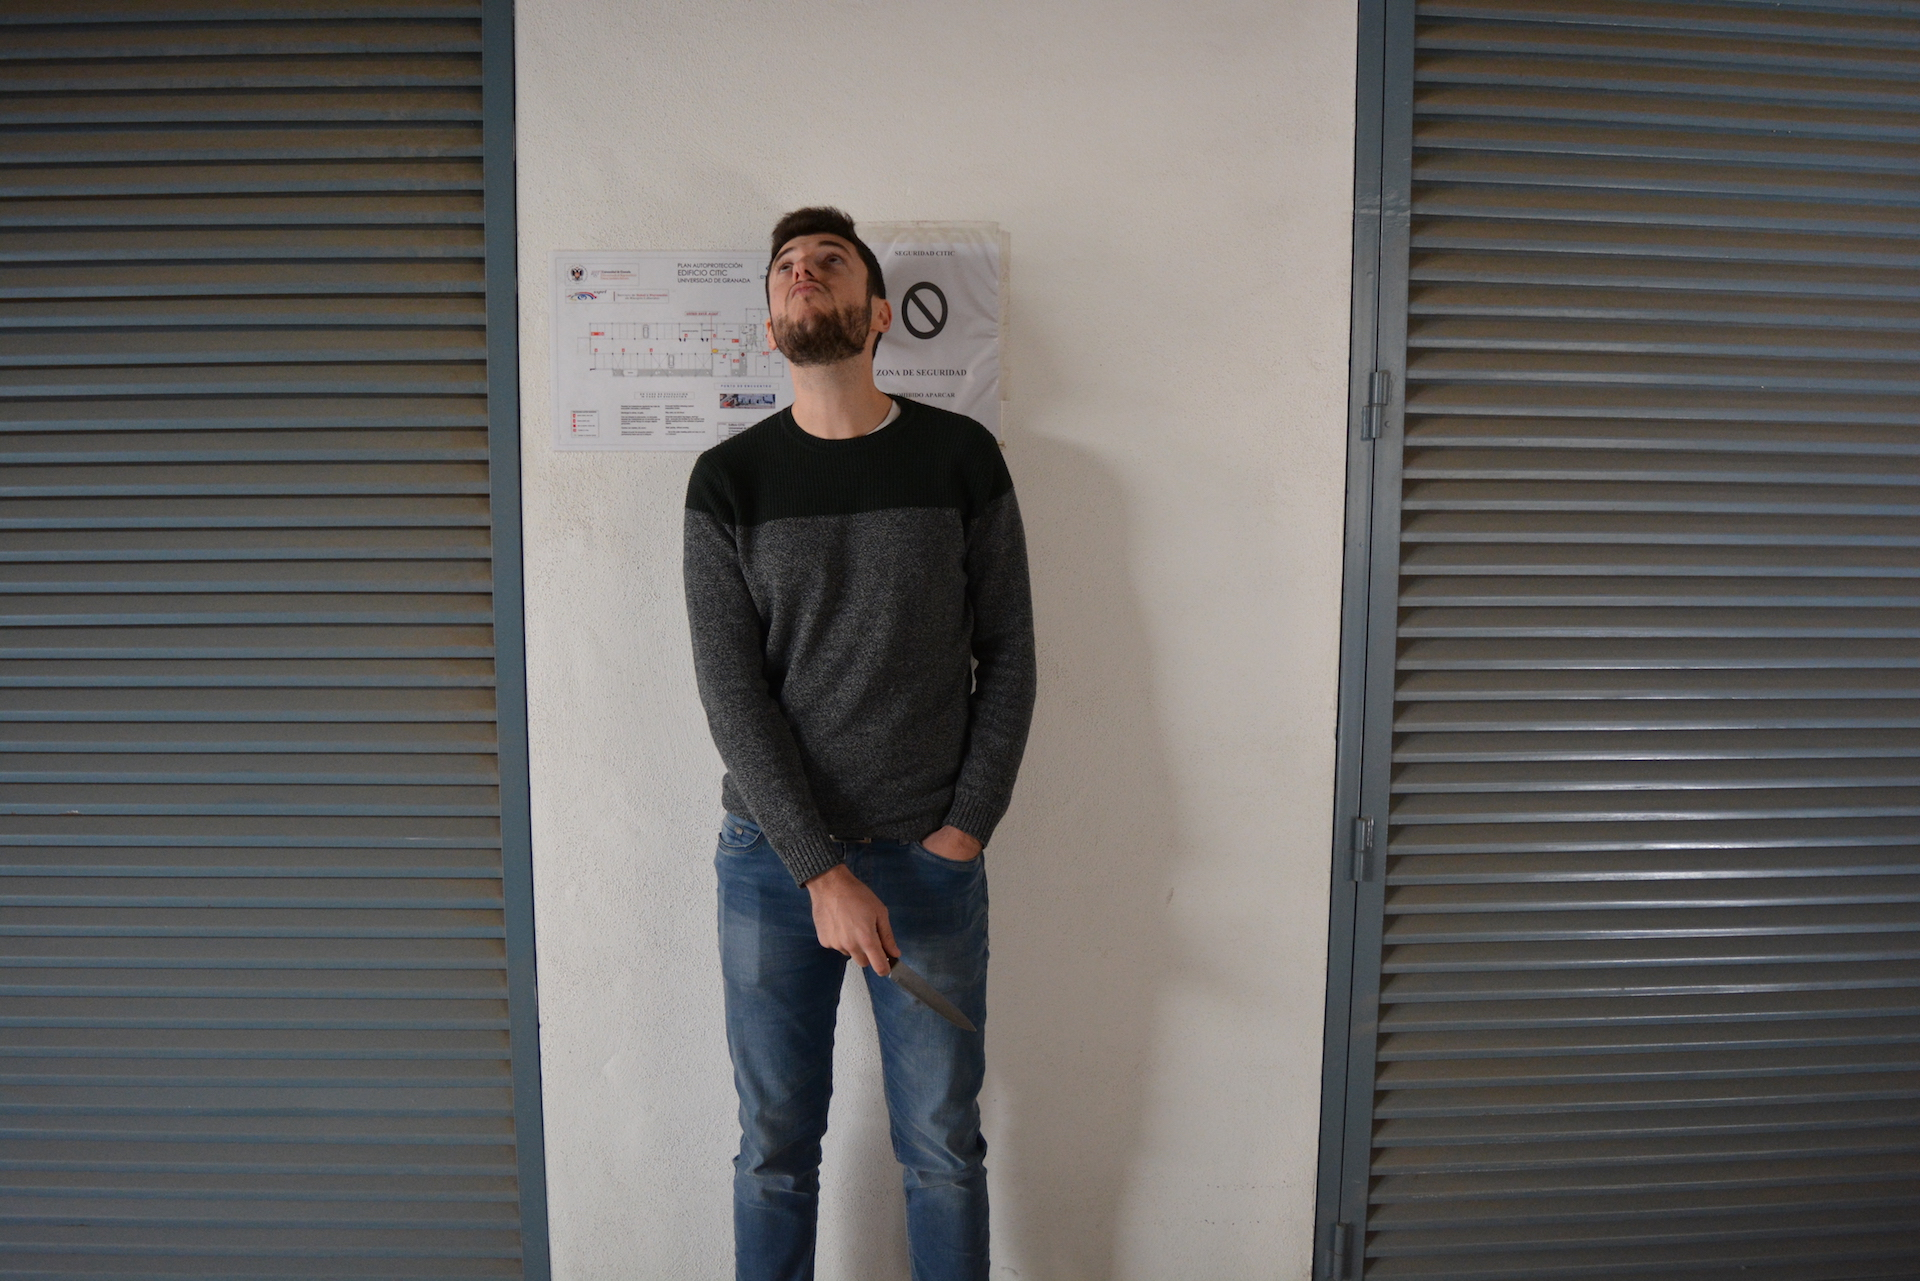knife: (851, 926, 985, 1039)
